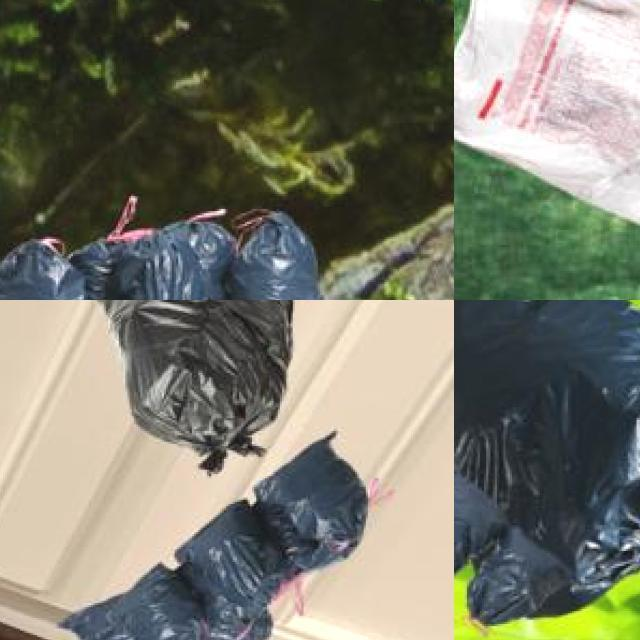waste: (454, 300, 640, 595), (454, 0, 640, 254), (109, 300, 293, 455), (571, 0, 640, 268), (184, 497, 288, 640), (257, 440, 367, 558), (77, 560, 205, 640), (472, 524, 574, 618), (89, 235, 216, 300), (231, 217, 329, 300), (454, 469, 506, 577), (0, 241, 93, 300)
